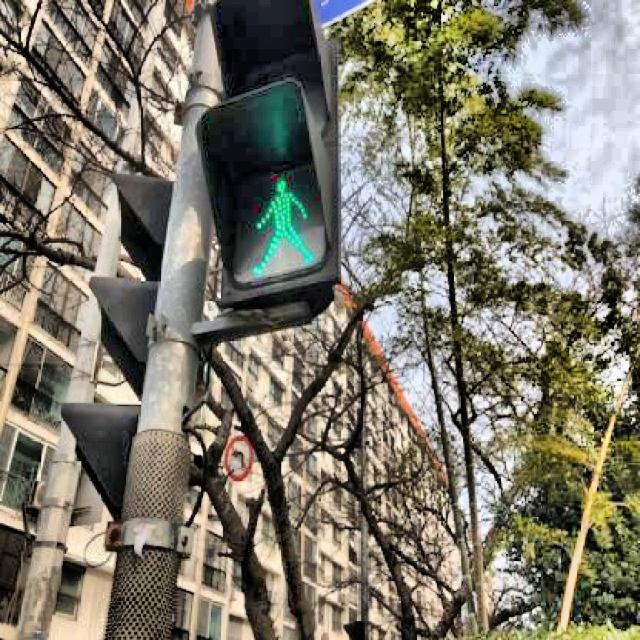semaforo pedestre: (148, 16, 406, 350)
